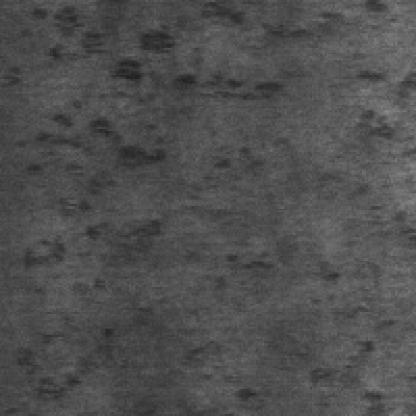rolled-in_scale: (11, 13, 220, 270)
